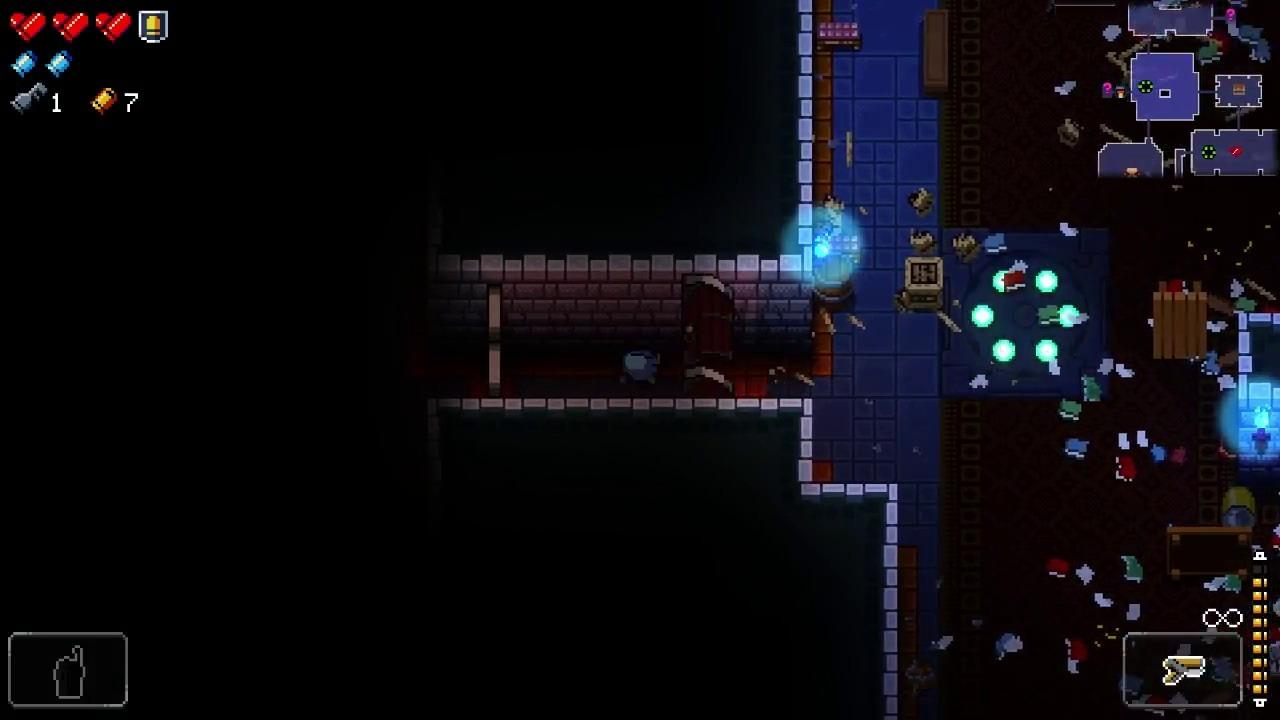dead_bullet_kin: (1222, 487, 1257, 527)
player: (621, 348, 662, 385)
table: (1166, 527, 1254, 579), (1153, 281, 1207, 361)
teleporter: (939, 227, 1110, 396)
unlocked_door: (682, 272, 734, 399), (486, 284, 504, 397)
